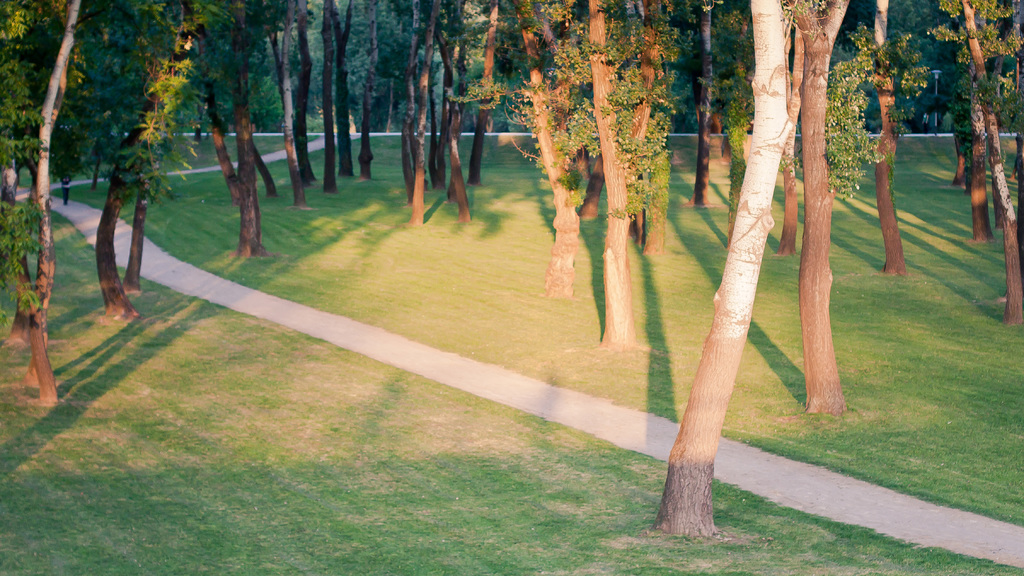Tree: (0, 0, 1023, 530)
